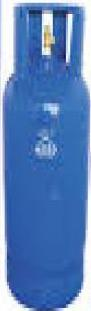cylinder: (1, 0, 91, 311)
